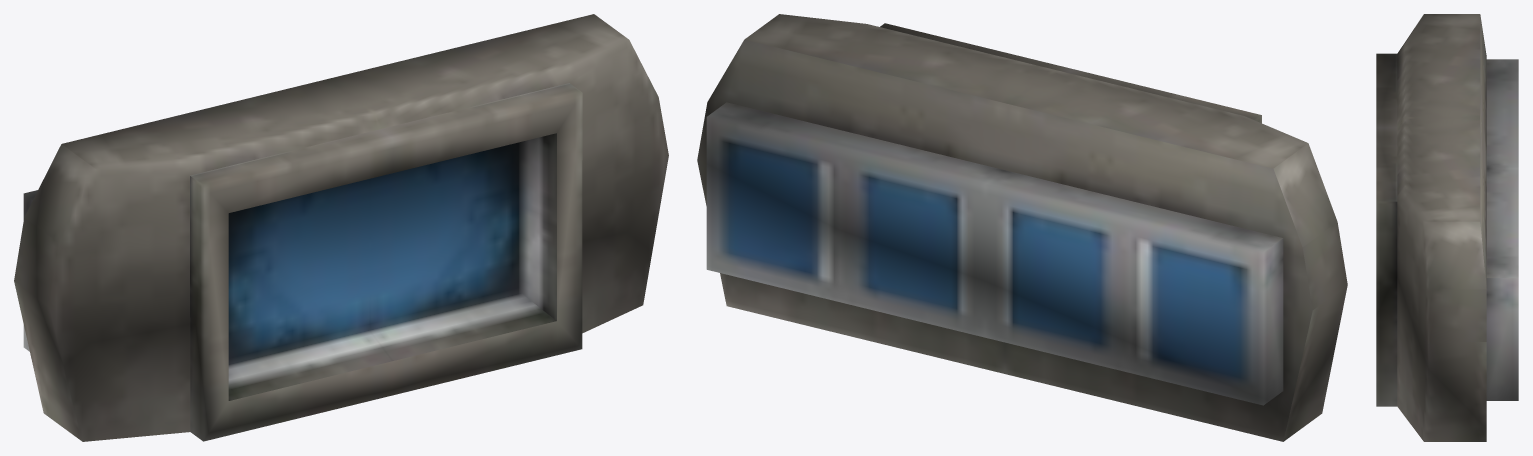
Rendered from Part - Windows 01-DnsbmITK.glb.
The picture shows the model from 3 angles, left to right: view 1: azimuth 30°, elevation 25°; view 2: azimuth 150°, elevation 25°; view 3: azimuth 270°, elevation 25°; orthographic projection. The views are drawn at different scales.
Visible parts, largest first — view 1: Windows_01; view 2: Windows_01; view 3: Windows_01.
Part boxes in pixels (x1,y1,x2,y2): Windows_01: (14,14,668,441); Windows_01: (697,14,1347,441); Windows_01: (1376,14,1518,441).
Bounding box in the file's own units: 1.38 × 0.5737 × 0.344.
Materials: 1 (1 with a texture image).
